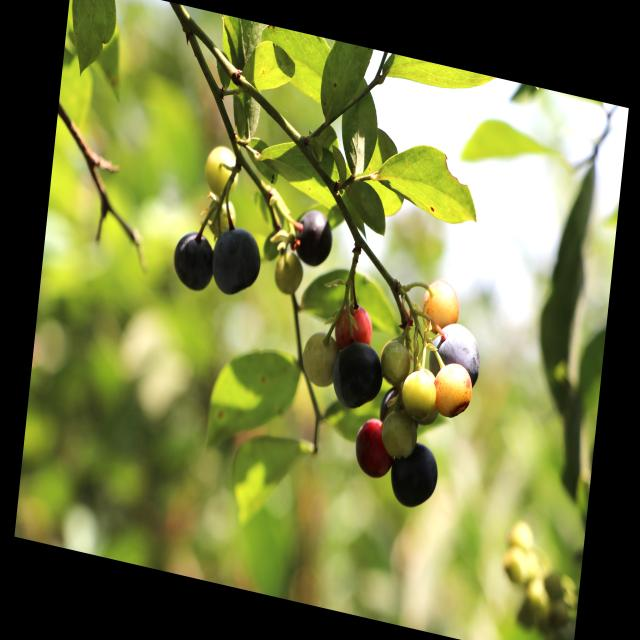blueberry: (383, 433, 442, 519), (330, 332, 387, 416), (208, 222, 266, 304), (425, 315, 486, 391), (168, 223, 216, 294), (289, 206, 335, 272)
blueberry-halfripe: (350, 414, 396, 483), (332, 296, 375, 349)
blueberry-unripe: (432, 356, 475, 420), (422, 276, 463, 332), (300, 329, 336, 389), (202, 141, 239, 194), (381, 408, 421, 457), (401, 367, 437, 417), (274, 247, 304, 295), (382, 332, 411, 381)
